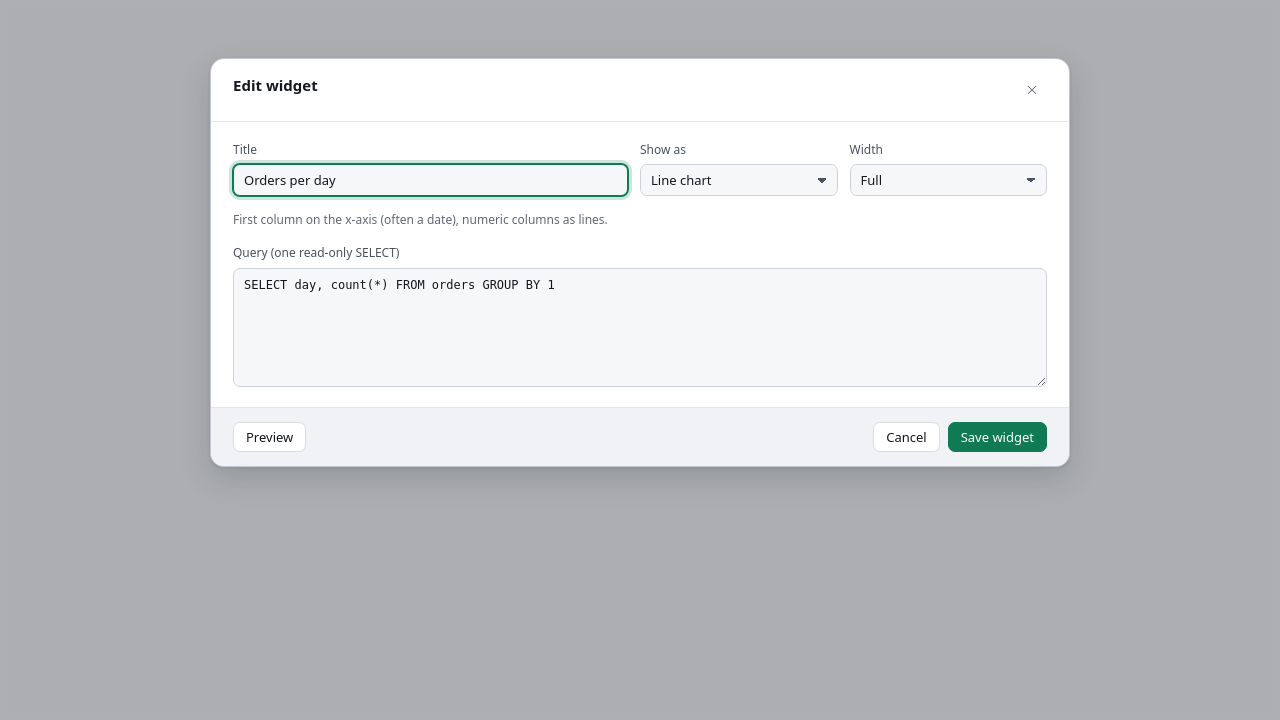
WidgetEditor › previews with the kind chosen in the editor, and as a grid for a table
The image size is (1280, 720).
Click the button "Preview" at (270, 437), box x1=233 y1=422 x2=306 y2=452
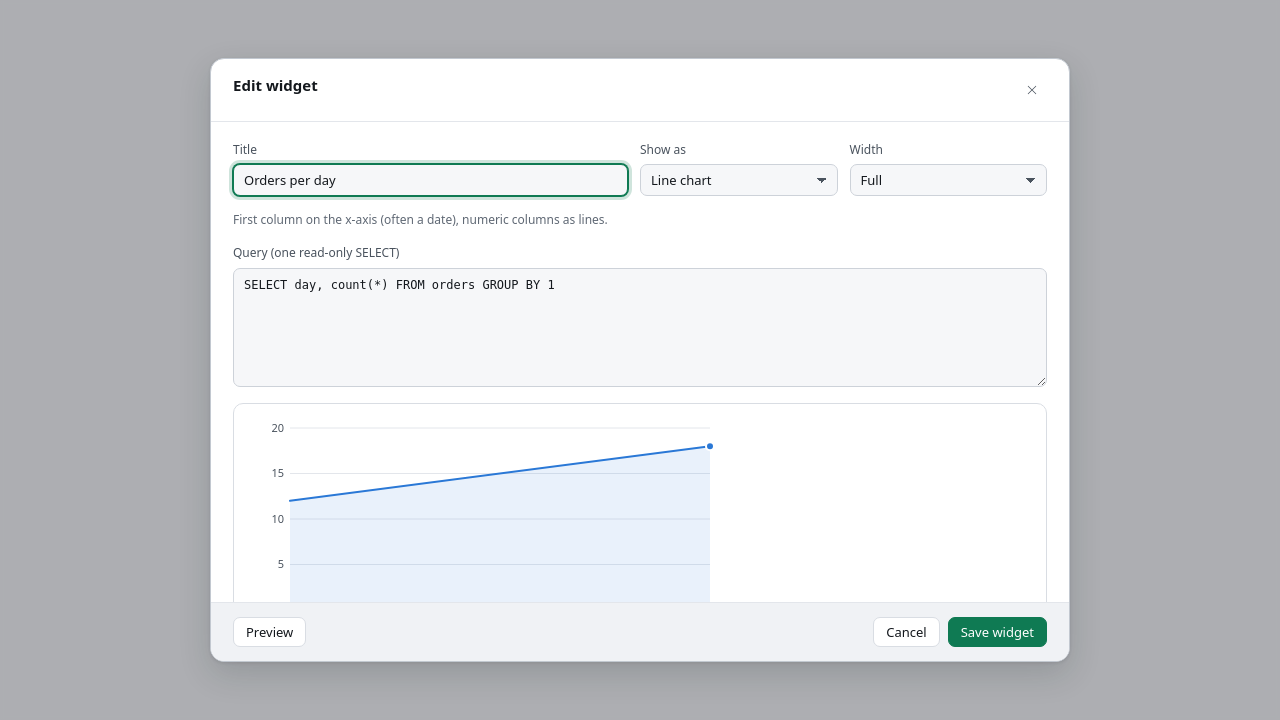
Expected: the picture named "Line chart of orders" is shown, x1=246 y1=416 x2=726 y2=602
Select "Bar chart" in the dropdown labelled "Show as" at (739, 180), box x1=640 y1=164 x2=838 y2=196
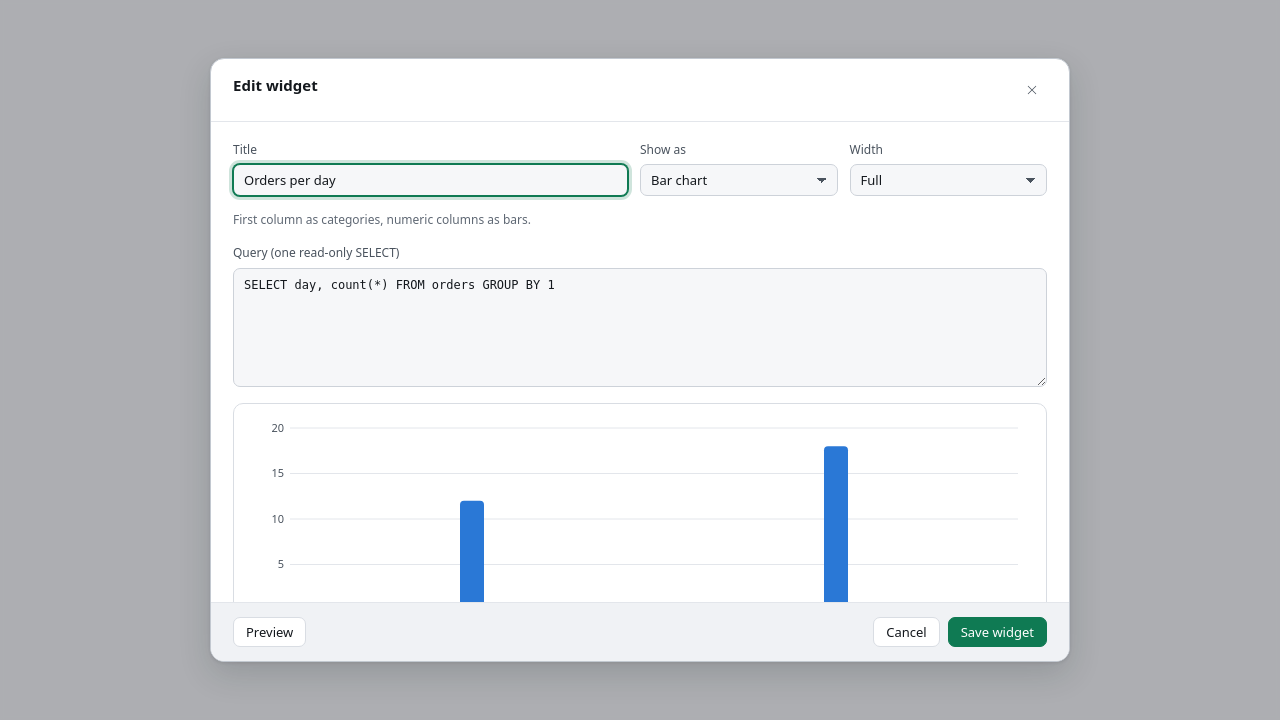
Expected: the picture named "Bar chart of orders" is shown, x1=246 y1=416 x2=1034 y2=602
Select "Number" in the dropdown labelled "Show as" at (739, 180), box x1=640 y1=164 x2=838 y2=196
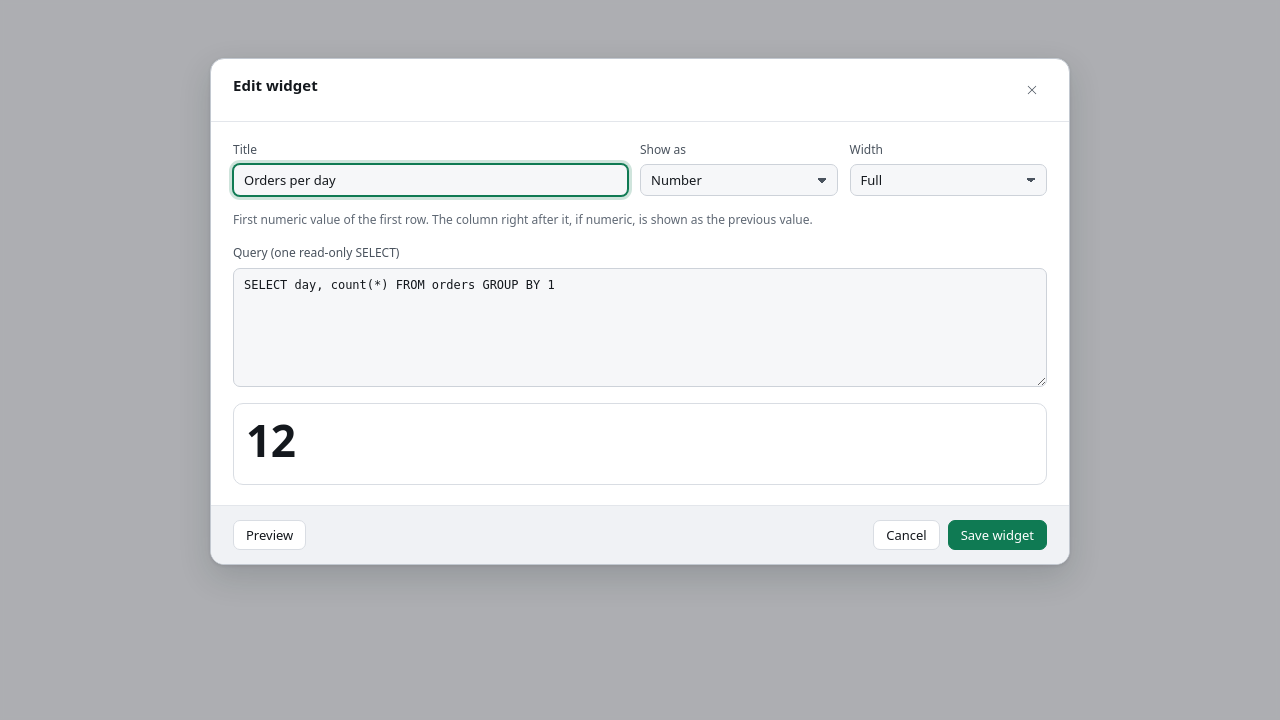
Select "Table" in the dropdown labelled "Show as" at (739, 180), box x1=640 y1=164 x2=838 y2=196
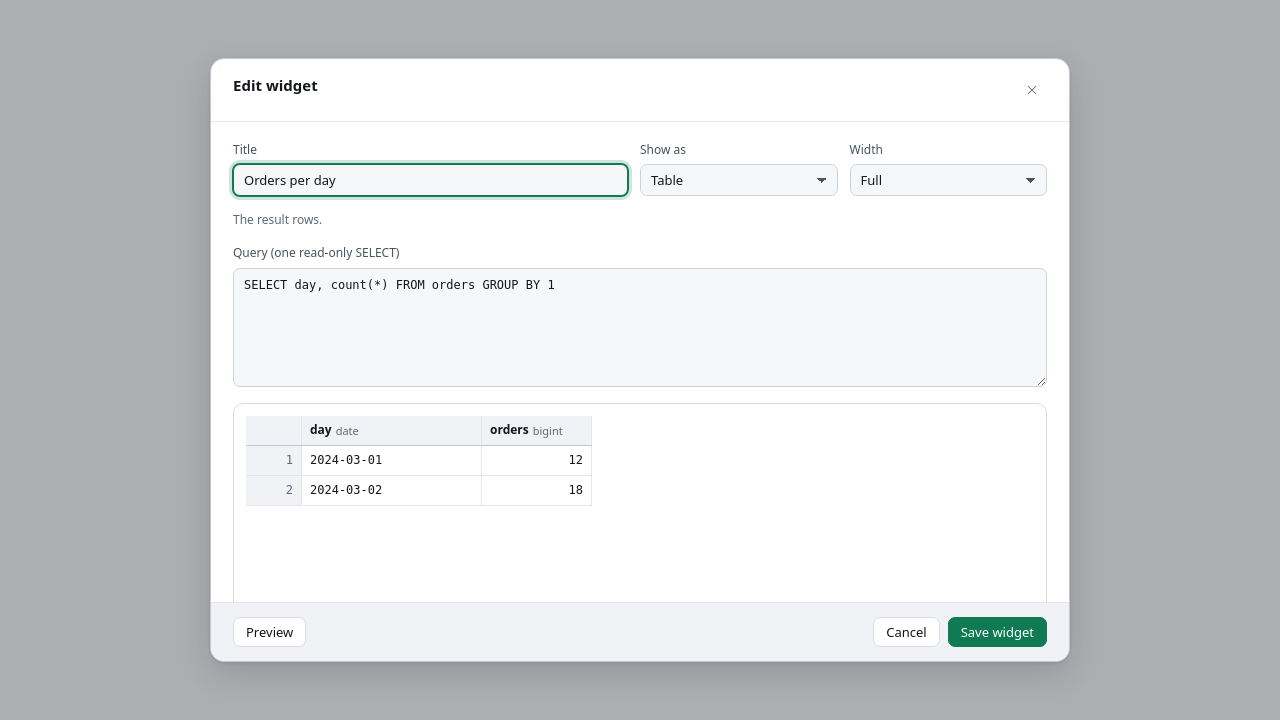
Expected: the table named "Widget data" is shown, x1=246 y1=416 x2=1034 y2=602
